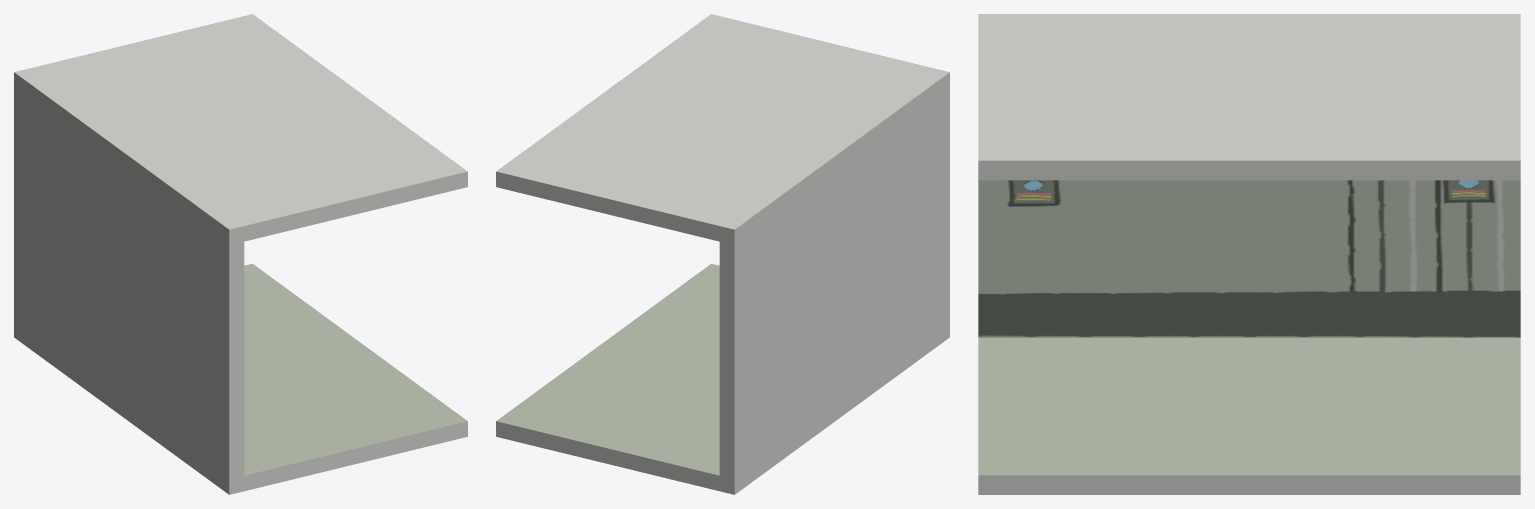
The model's file is diningHall.gltf.
3 renders of one model, left to right at view 1: azimuth 30°, elevation 25°; view 2: azimuth 150°, elevation 25°; view 3: azimuth 270°, elevation 25°, orthographic. The views are drawn at different scales.
Parts seen in each view (by area): view 1: diningHall; view 2: diningHall; view 3: diningHall.
Part boxes in pixels (x1,y1,x2,y2): diningHall: (14, 14, 467, 494); diningHall: (496, 14, 949, 494); diningHall: (978, 14, 1520, 494).
Size of the model in its own units: 6.4 by 6.8 by 10.
Materials: 1 (1 with a texture image).
